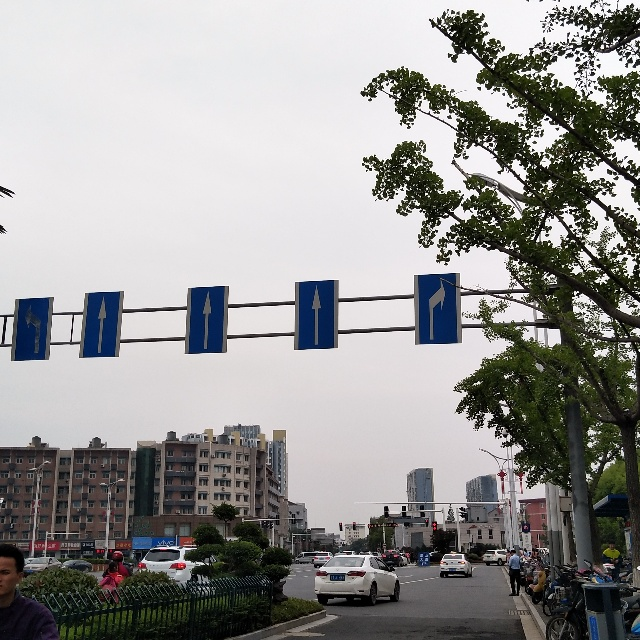left: (17, 301, 50, 355)
right: (420, 270, 458, 342)
straight: (86, 294, 119, 361), (300, 283, 334, 346), (190, 293, 224, 355)
